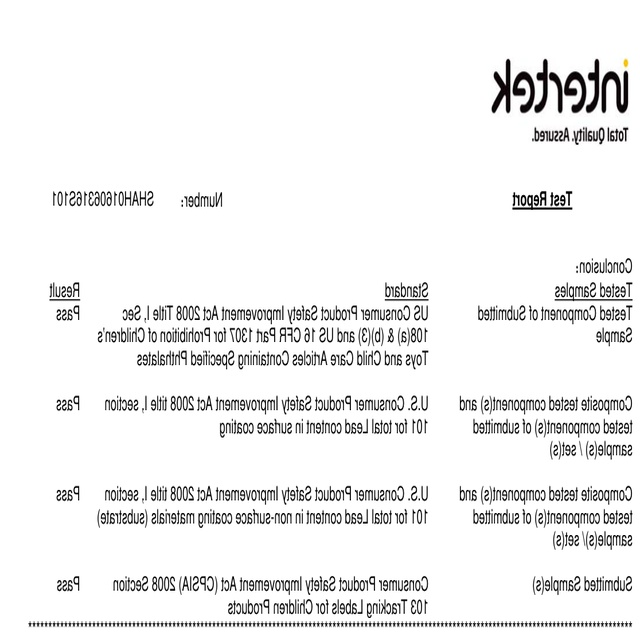intertek: (486, 53, 634, 117)
